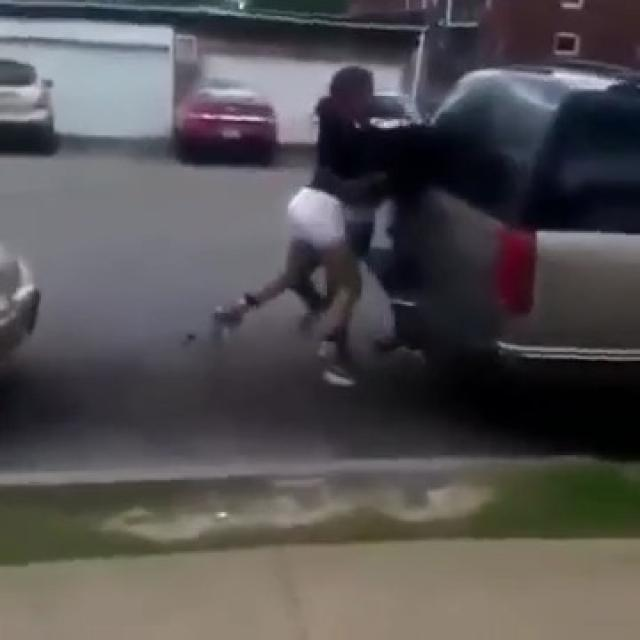fight: (251, 38, 470, 406)
